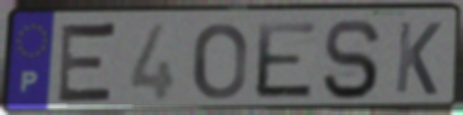4: (126, 21, 178, 104)
E: (53, 19, 121, 108), (253, 19, 320, 101)
K: (391, 19, 444, 98)
O: (190, 20, 249, 103)
S: (319, 16, 384, 103)
